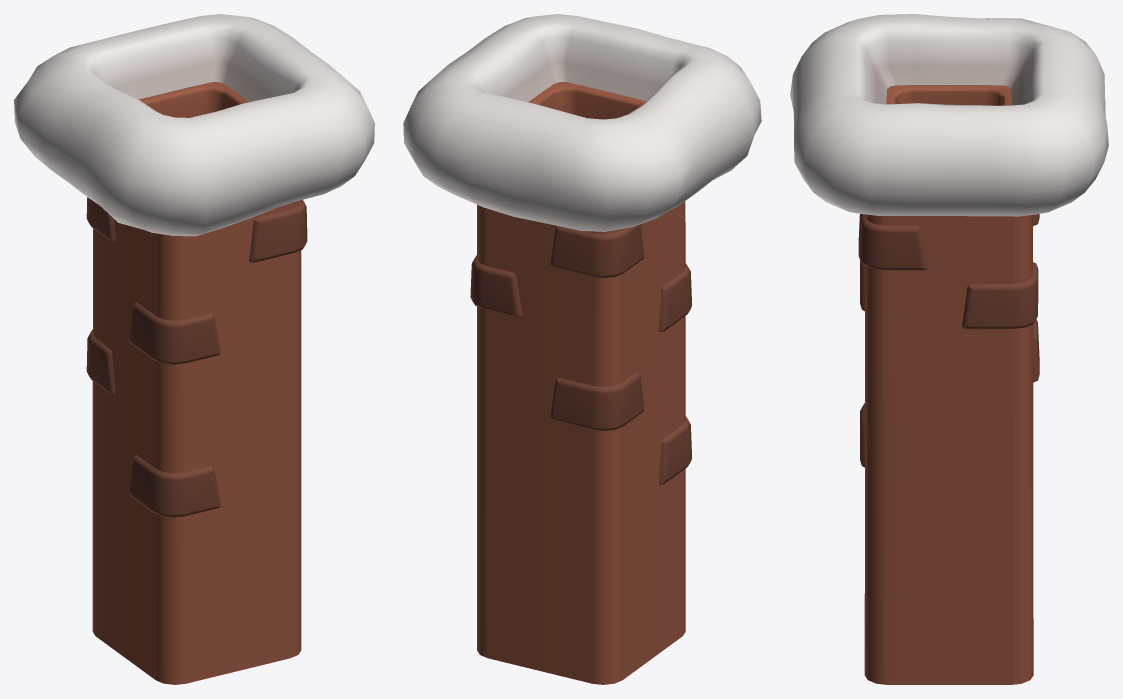
The model's file is Fireplace_pipe_001.glb.
The picture shows the model from 3 angles, left to right: view 1: azimuth 30°, elevation 25°; view 2: azimuth 150°, elevation 25°; view 3: azimuth 270°, elevation 25°; orthographic projection. The views are drawn at different scales.
Visible parts, largest first — view 1: Fireplace_pipe_001; view 2: Fireplace_pipe_001; view 3: Fireplace_pipe_001.
Boxes of the visible parts, box(x1,y1,x2,y2) form: Fireplace_pipe_001: box(14, 14, 374, 684); Fireplace_pipe_001: box(403, 14, 761, 684); Fireplace_pipe_001: box(790, 14, 1108, 684).
Size of the model in its own units: 1.69 by 3.43 by 1.69.
Materials: 3 (3 with a texture image).
